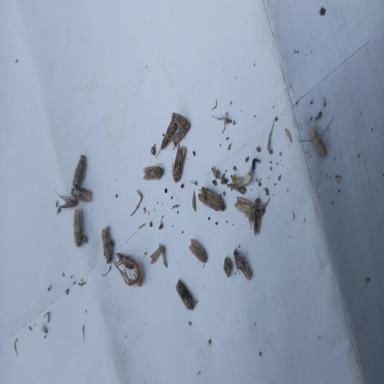pbw: (155, 120, 178, 158), (198, 186, 225, 212), (233, 248, 252, 280), (172, 144, 187, 183), (176, 279, 194, 311), (72, 154, 87, 188), (101, 227, 113, 265), (189, 239, 207, 263), (55, 191, 78, 209), (72, 208, 82, 247), (170, 127, 188, 148), (170, 112, 190, 130), (143, 163, 163, 181), (234, 196, 252, 214), (115, 252, 133, 269), (253, 198, 261, 236), (71, 188, 92, 202)
